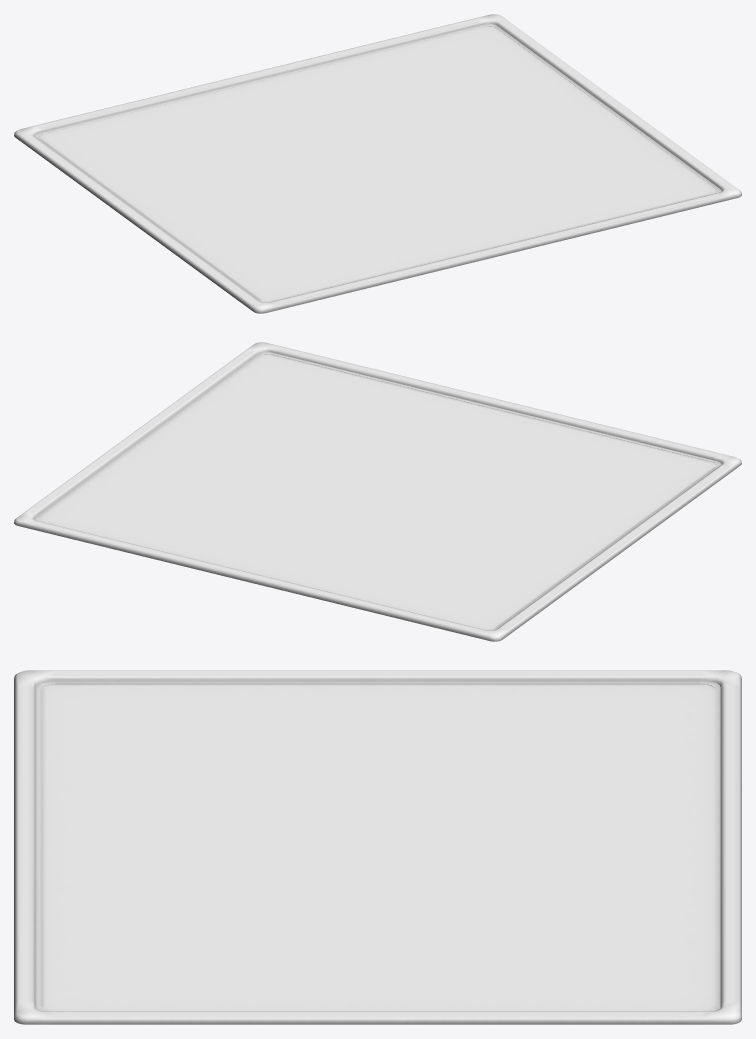
Rendered from placa.obj.
3 renders of one model, top to bottom at view 1: azimuth 30°, elevation 25°; view 2: azimuth 150°, elevation 25°; view 3: azimuth 270°, elevation 25°, orthographic. The views are drawn at different scales.
Visible parts, largest first — view 1: #CAB0001_Kitchen_Wood_White_86x160x60.077; view 2: #CAB0001_Kitchen_Wood_White_86x160x60.077; view 3: #CAB0001_Kitchen_Wood_White_86x160x60.077.
Part boxes in pixels (<box>): #CAB0001_Kitchen_Wood_White_86x160x60.077: <box>14,14,741,313</box>; #CAB0001_Kitchen_Wood_White_86x160x60.077: <box>14,342,741,641</box>; #CAB0001_Kitchen_Wood_White_86x160x60.077: <box>14,670,741,1024</box>.
Bounding box in the file's own units: 48.8 × 0.3565 × 42.86.
